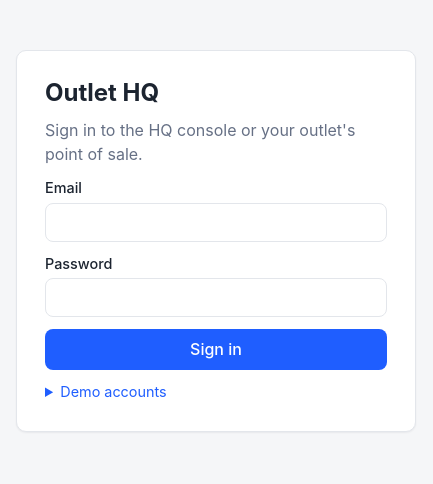
Test: LoginPage › shows the API message and re-enables the button when sign-in fails
The image size is (433, 484).
Type "a@b.co" into the field labelled "Email" at (216, 222), box x1=45 y1=203 x2=387 y2=242
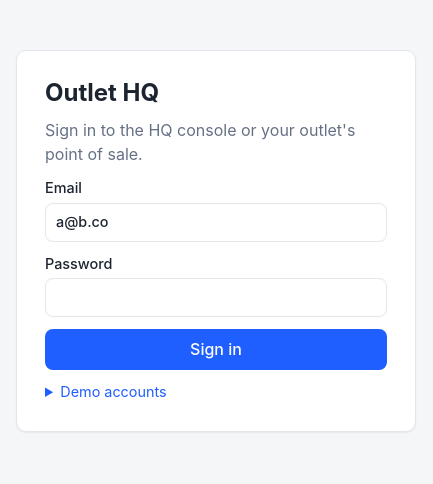
Type "wrong" into the password field labelled "Password" at (216, 298), box x1=45 y1=278 x2=387 y2=317
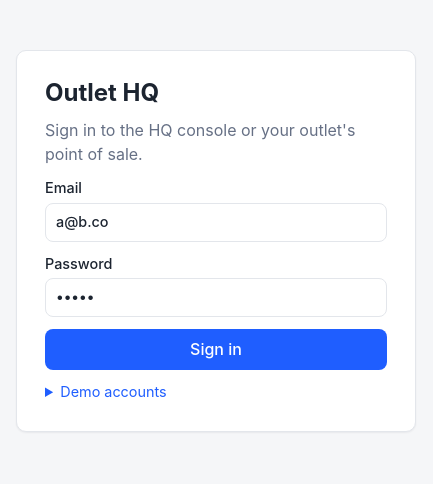
Click the button "Sign in" at (216, 350), box x1=45 y1=329 x2=387 y2=370
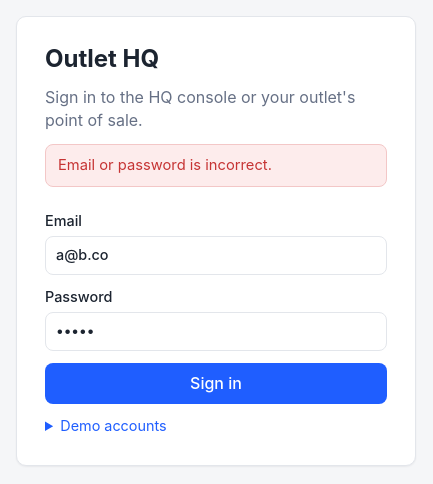
Expected: the button "Sign in" is enabled, x1=45 y1=363 x2=387 y2=404
Expected: the message reads "Email or password is incorrect.", x1=58 y1=156 x2=272 y2=174
